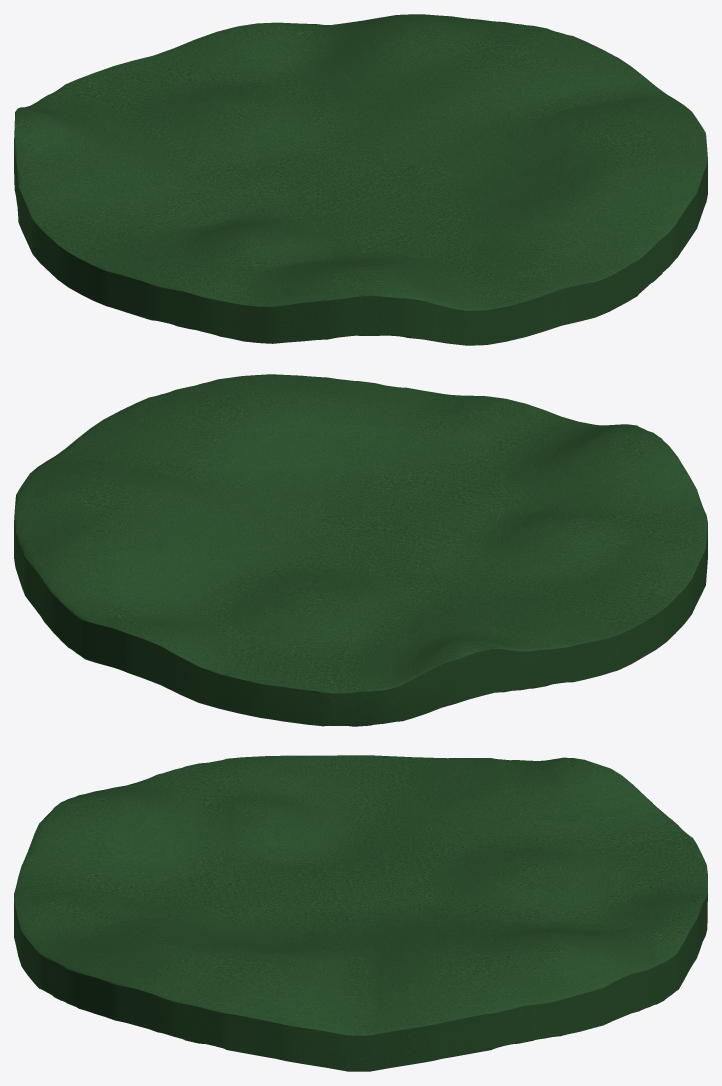
File: 3.2_exam_3dscene_Boden_simpletextured.glb
The picture shows the model from 3 angles, top to bottom: view 1: azimuth 30°, elevation 25°; view 2: azimuth 150°, elevation 25°; view 3: azimuth 270°, elevation 25°; orthographic projection.
Parts seen in each view (by area): view 1: Boden; view 2: Boden; view 3: Boden.
Boxes of the visible parts, x1,y1,x2,y2 form: Boden: (14, 14, 707, 345); Boden: (14, 374, 707, 726); Boden: (14, 755, 707, 1071).
Size of the model in its own units: 87.03 by 10.19 by 87.53.
Materials: 1 (1 with a texture image).
